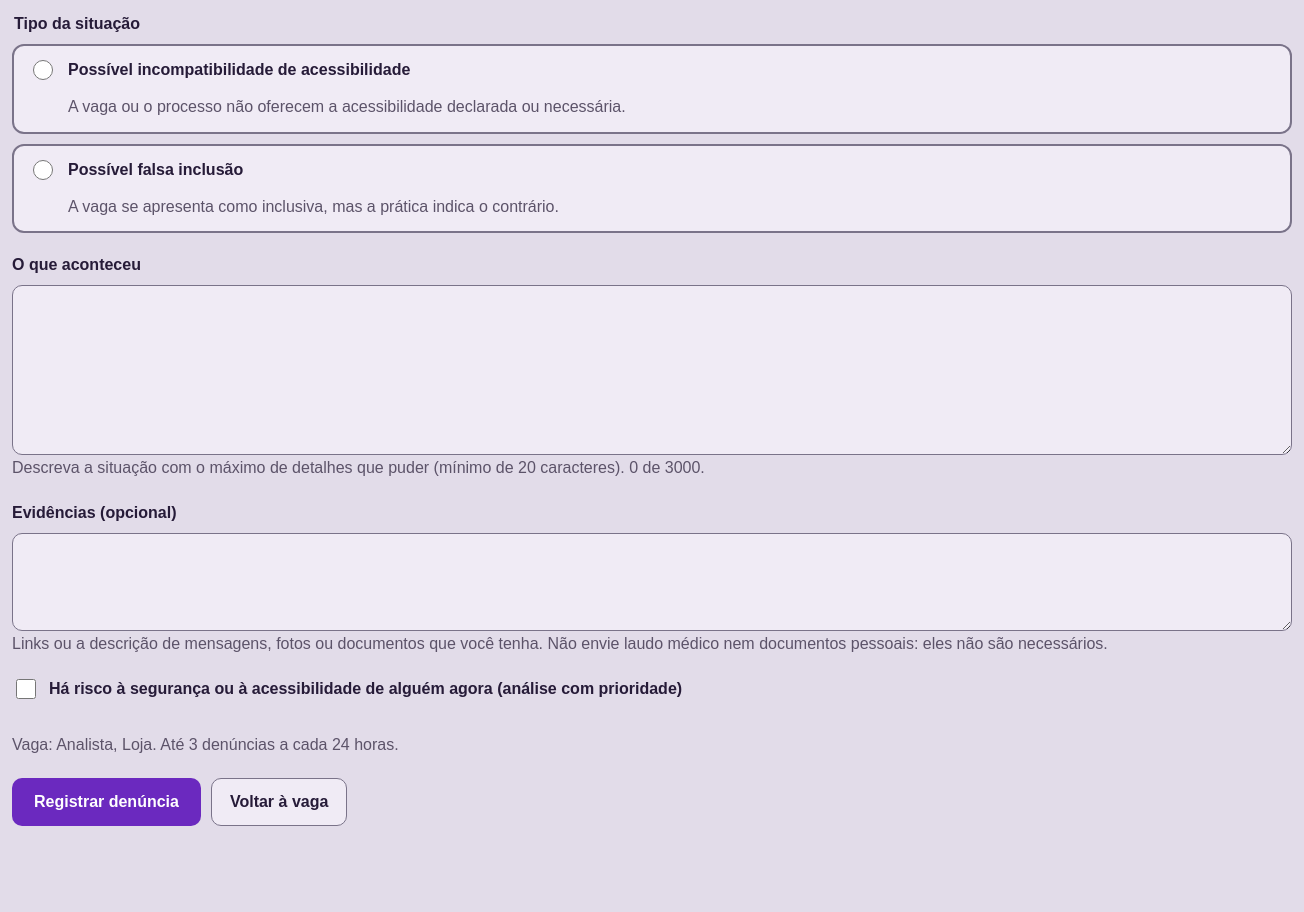
Test: report form (SPEC-019) › explains the daily limit
The width and height of the screenshot is (1304, 912).
Click the radio button labelled "incompatibilidade". click: (43, 70)
box: [33,60,53,80]
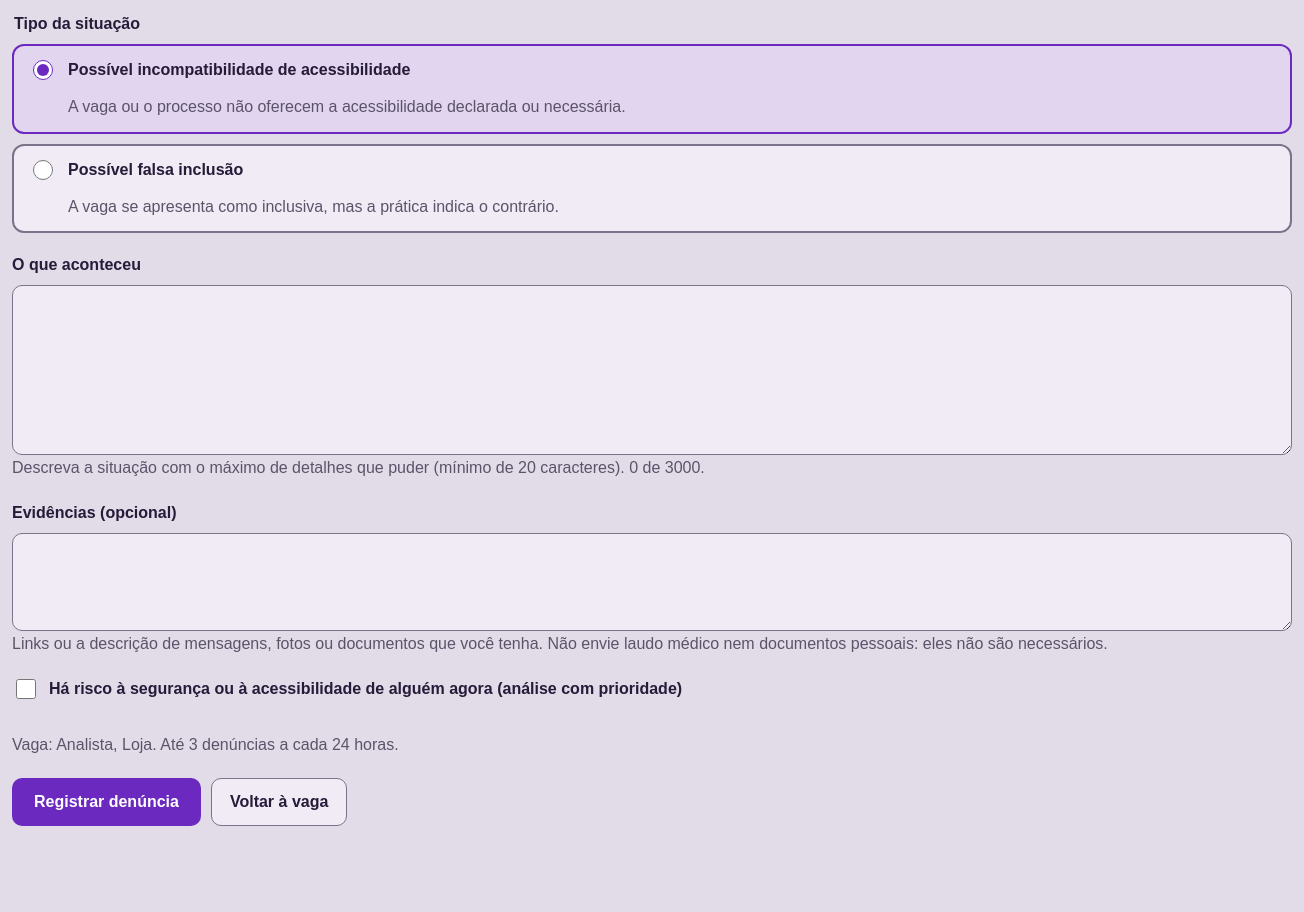
Type "Não havia intérprete de Libras como declarado." into the text box labelled "O que aconteceu". click: (652, 370)
box: [12,285,1292,455]
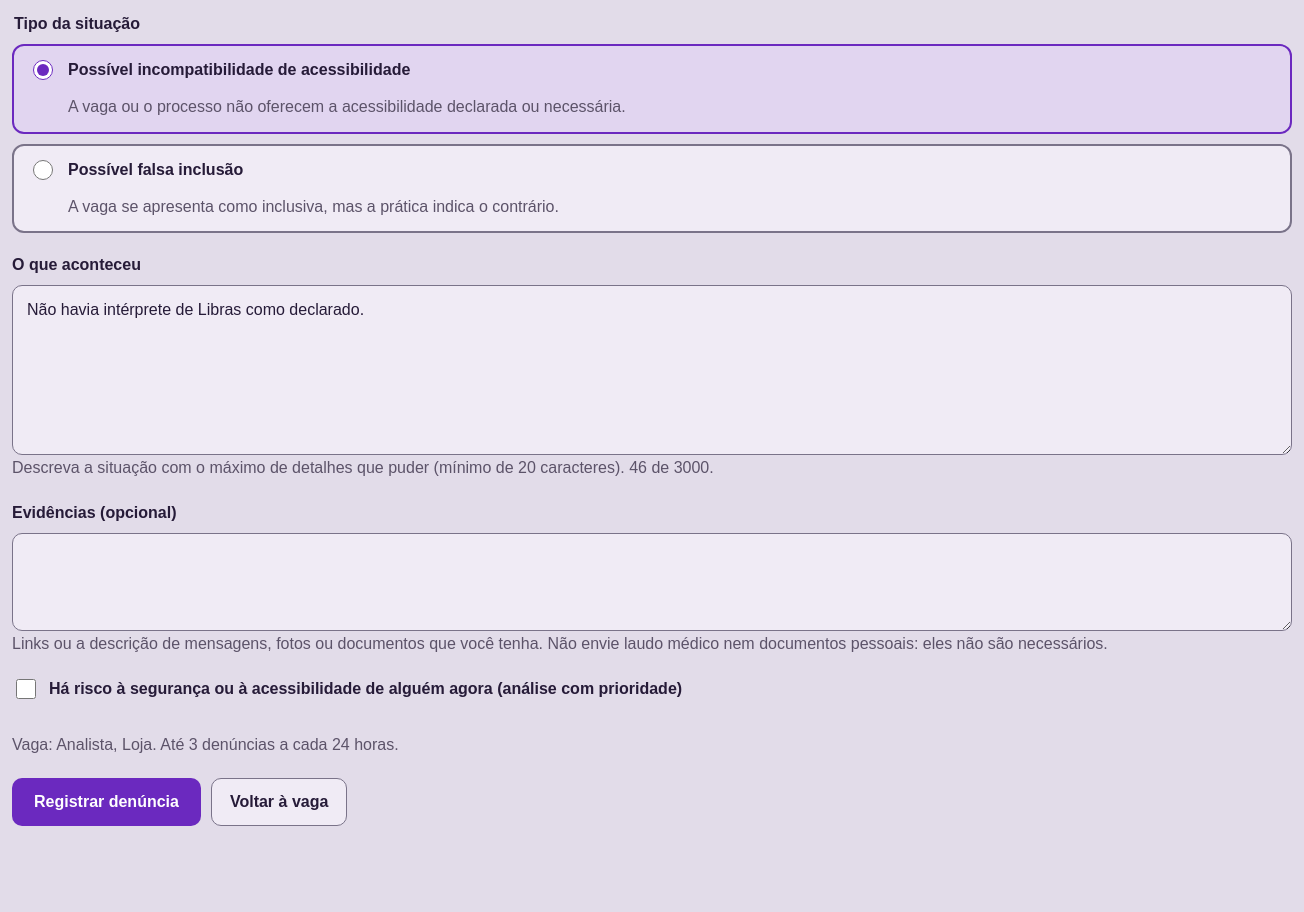
Click the button "Registrar denúncia". click: (106, 802)
box: [12,778,201,826]
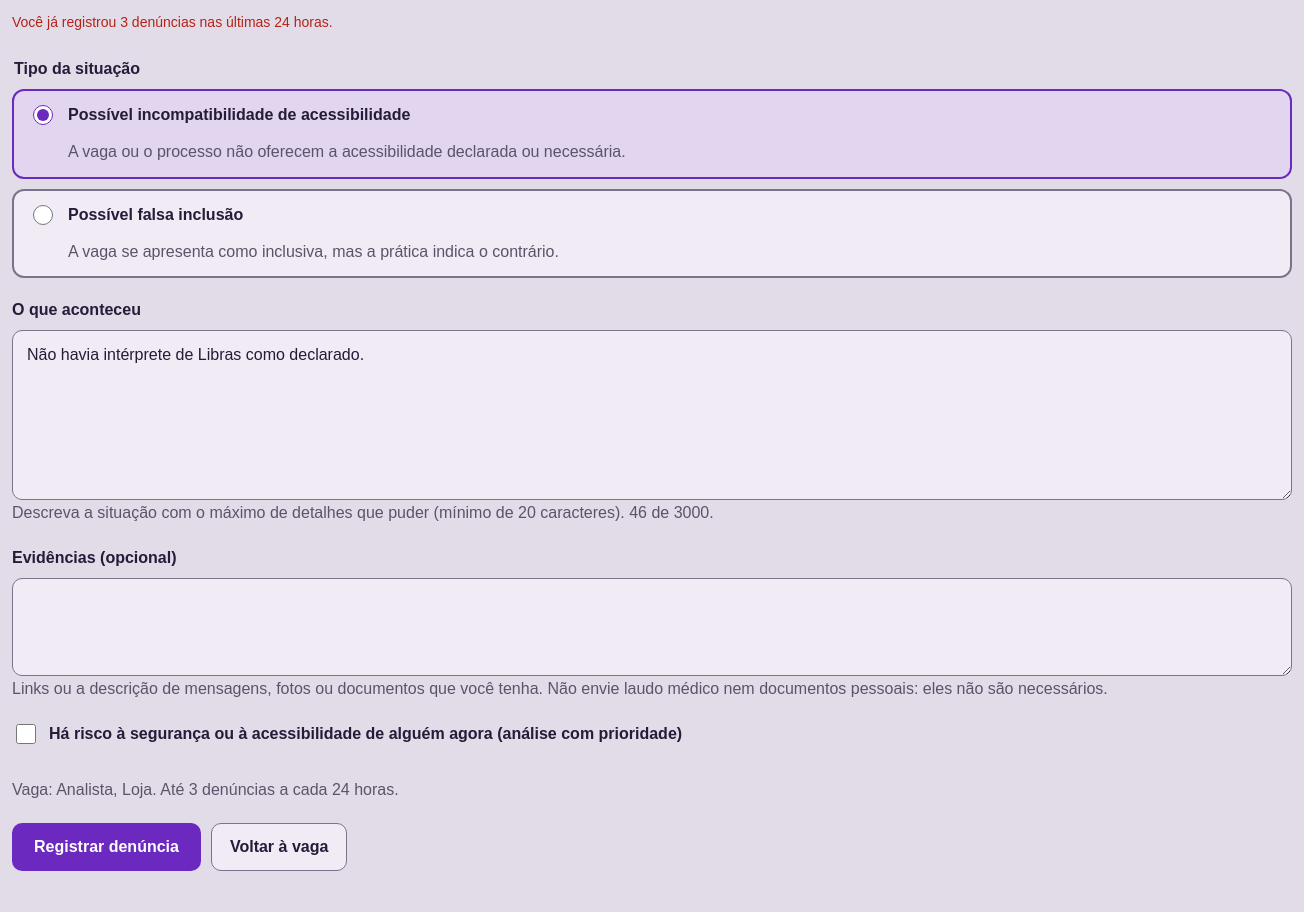
Check: the message shows "3 denúncias", box [12,14,333,30]
